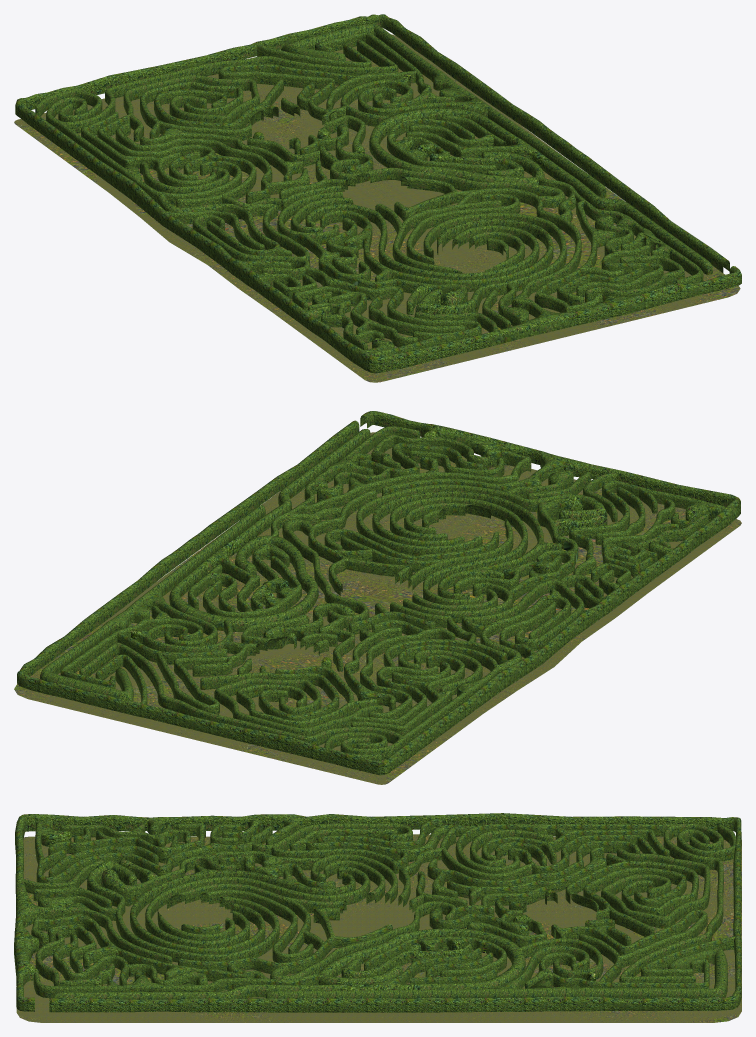
File: maze.glb
3 renders of one model, top to bottom at view 1: azimuth 30°, elevation 25°; view 2: azimuth 150°, elevation 25°; view 3: azimuth 270°, elevation 25°, orthographic.
Visible parts, largest first — view 1: NurbsPath.003_Hedge 1_0, Flat Texturat_ground_0; view 2: NurbsPath.003_Hedge 1_0, Flat Texturat_ground_0; view 3: NurbsPath.003_Hedge 1_0, Flat Texturat_ground_0.
Part boxes in pixels (x1=…): NurbsPath.003_Hedge 1_0: x1=15, y1=14, x2=741, y2=373; Flat Texturat_ground_0: x1=14, y1=34, x2=740, y2=382; NurbsPath.003_Hedge 1_0: x1=17, y1=411, x2=740, y2=775; Flat Texturat_ground_0: x1=14, y1=432, x2=741, y2=784; NurbsPath.003_Hedge 1_0: x1=14, y1=813, x2=741, y2=1012; Flat Texturat_ground_0: x1=16, y1=834, x2=741, y2=1022.
Size of the model in its own units: 58.91 by 4.07 by 96.03.
2 materials, 2 textured.
